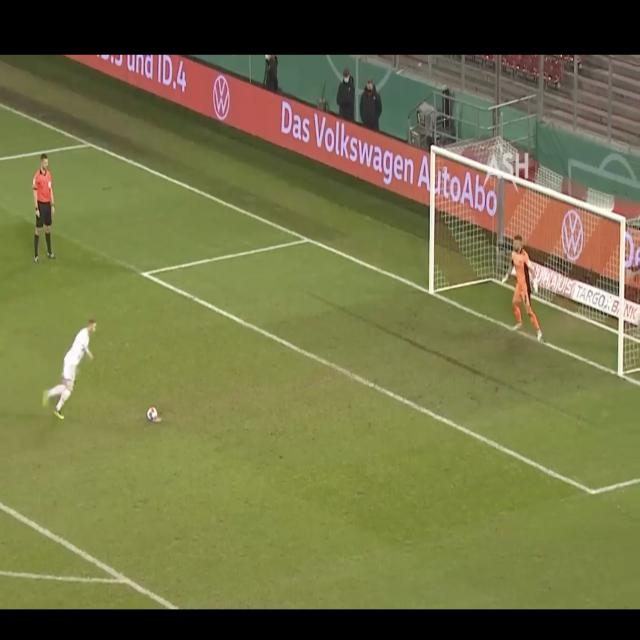left-top: (434, 147, 528, 185)
soccer-goal: (433, 148, 623, 376)
